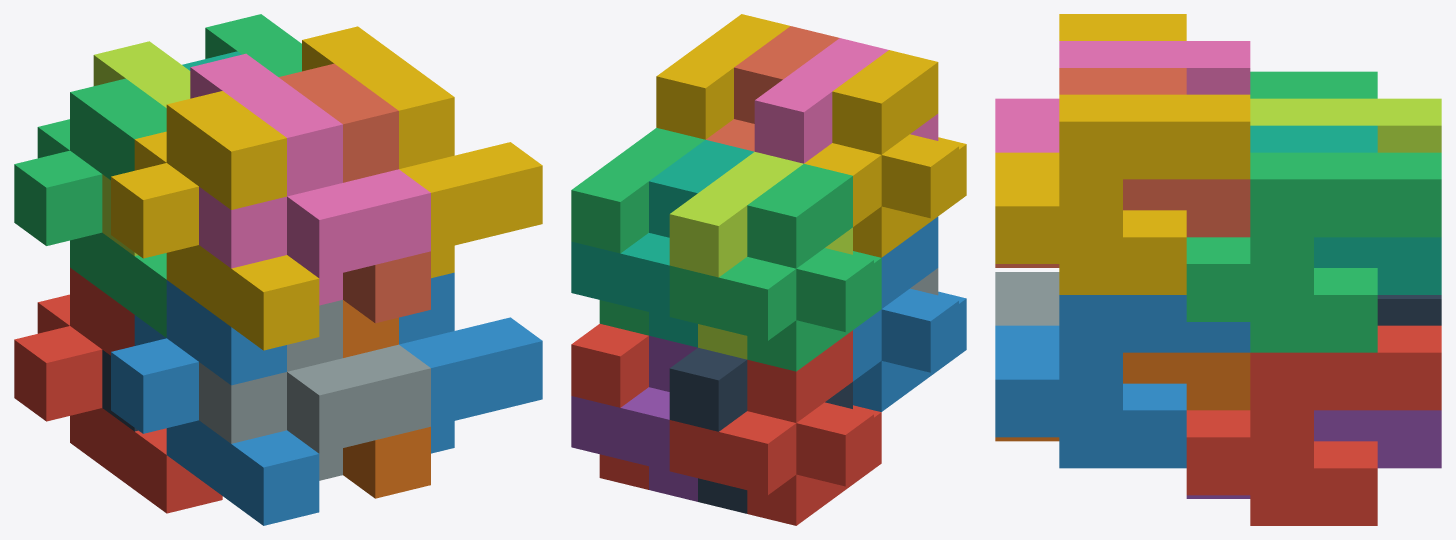
File: tiling.obj
3 renders of one model, left to right at view 1: azimuth 30°, elevation 25°; view 2: azimuth 150°, elevation 25°; view 3: azimuth 270°, elevation 25°, orthographic. The views are drawn at different scales.
Parts seen in each view (by area): view 1: copy_1_domain_4, copy_2_domain_4, copy_1_domain_2, copy_1_domain_3, copy_2_domain_2, copy_2_domain_8, copy_1_domain_1, copy_2_domain_6, copy_1_domain_8, copy_1_domain_6, copy_2_domain_3, copy_2_domain_7 (+1 smaller); view 2: copy_1_domain_3, copy_1_domain_1, copy_1_domain_4, copy_1_domain_2, copy_1_domain_7, copy_2_domain_3, copy_2_domain_7, copy_1_domain_5, copy_2_domain_4, copy_2_domain_8, copy_2_domain_1, copy_2_domain_5 (+1 smaller); view 3: copy_2_domain_8, copy_2_domain_7, copy_2_domain_5, copy_2_domain_6, copy_2_domain_4, copy_1_domain_8, copy_1_domain_7, copy_2_domain_3, copy_1_domain_6, copy_1_domain_5, copy_1_domain_3, copy_2_domain_2 (+2 smaller).
Part boxes in pixels (left/top/right/bottom): copy_1_domain_4: left=111, top=91, right=319, bottom=350; copy_2_domain_4: left=190, top=53, right=430, bottom=305; copy_1_domain_2: left=111, top=280, right=319, bottom=525; copy_1_domain_3: left=14, top=78, right=166, bottom=337; copy_2_domain_2: left=199, top=300, right=430, bottom=480; copy_2_domain_8: left=302, top=26, right=542, bottom=278; copy_1_domain_1: left=14, top=267, right=222, bottom=513; copy_2_domain_6: left=399, top=272, right=542, bottom=453; copy_1_domain_8: left=279, top=63, right=430, bottom=323; copy_1_domain_6: left=343, top=300, right=430, bottom=498; copy_2_domain_3: left=93, top=41, right=190, bottom=255; copy_2_domain_7: left=205, top=14, right=301, bottom=76; copy_1_domain_3: left=669, top=164, right=881, bottom=371; copy_1_domain_1: left=669, top=330, right=881, bottom=525; copy_1_domain_4: left=804, top=50, right=966, bottom=257; copy_1_domain_2: left=853, top=216, right=966, bottom=411; copy_1_domain_7: left=571, top=140, right=754, bottom=347; copy_2_domain_3: left=669, top=152, right=852, bottom=359; copy_2_domain_7: left=571, top=128, right=705, bottom=335; copy_1_domain_5: left=571, top=335, right=697, bottom=501; copy_2_domain_4: left=754, top=38, right=938, bottom=163; copy_2_domain_8: left=656, top=14, right=790, bottom=139; copy_2_domain_1: left=669, top=347, right=852, bottom=513; copy_2_domain_5: left=571, top=324, right=648, bottom=489; copy_2_domain_8: left=995, top=94, right=1250, bottom=294; copy_2_domain_7: left=1186, top=152, right=1441, bottom=352; copy_2_domain_5: left=1186, top=325, right=1441, bottom=525; copy_2_domain_6: left=995, top=295, right=1250, bottom=468; copy_2_domain_4: left=995, top=41, right=1250, bottom=152; copy_1_domain_8: left=995, top=68, right=1250, bottom=267; copy_1_domain_7: left=1250, top=125, right=1441, bottom=294; copy_2_domain_3: left=1250, top=98, right=1441, bottom=152; copy_1_domain_6: left=995, top=352, right=1250, bottom=441; copy_1_domain_5: left=1186, top=410, right=1441, bottom=498; copy_1_domain_3: left=1250, top=71, right=1377, bottom=98; copy_2_domain_2: left=995, top=272, right=1059, bottom=325.
Bounding box in the file's own units: 6 × 7 × 7.
